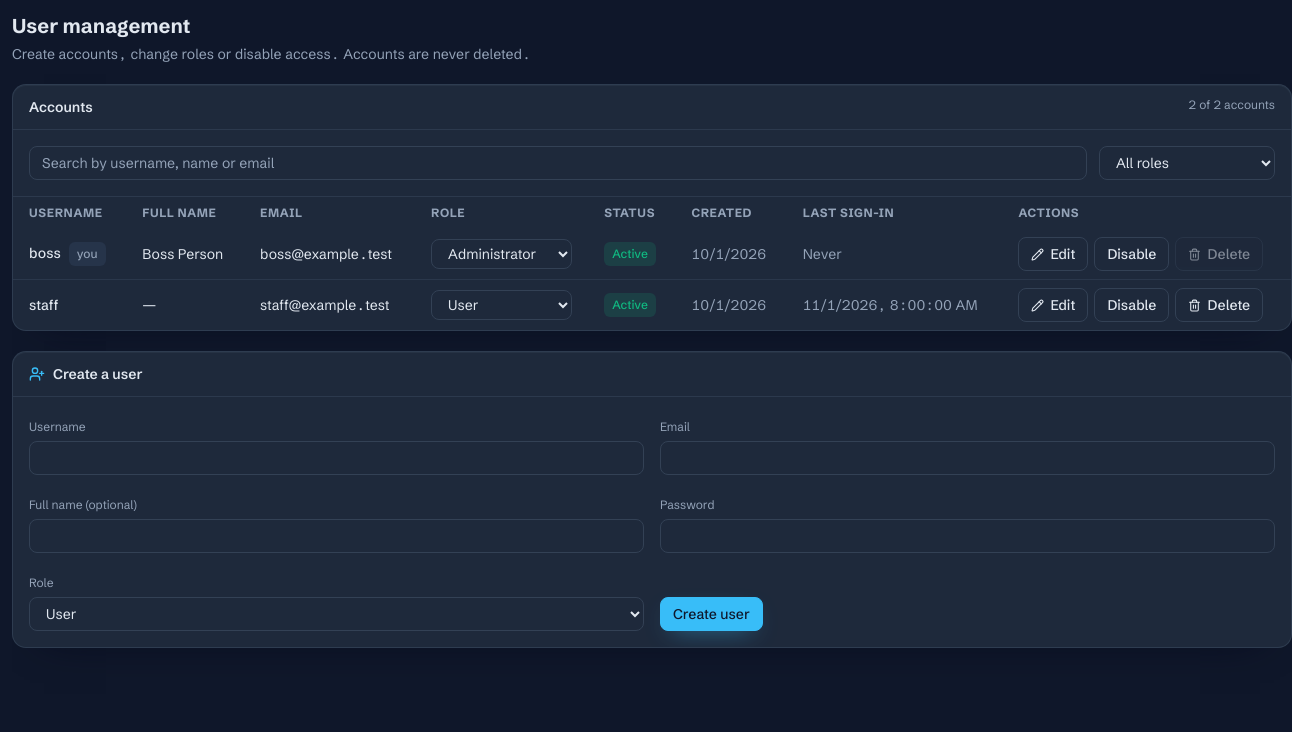
Users page (admin): role, status › the disable button sends dang_hoat_dong=false and the row flips to Disabled / Enable
What coordinates should you click on to do the following:
click the button "Disable" in the row of "staff@example.test"
I would click on:
 (1132, 305)
Its box is [1094,288,1170,322].
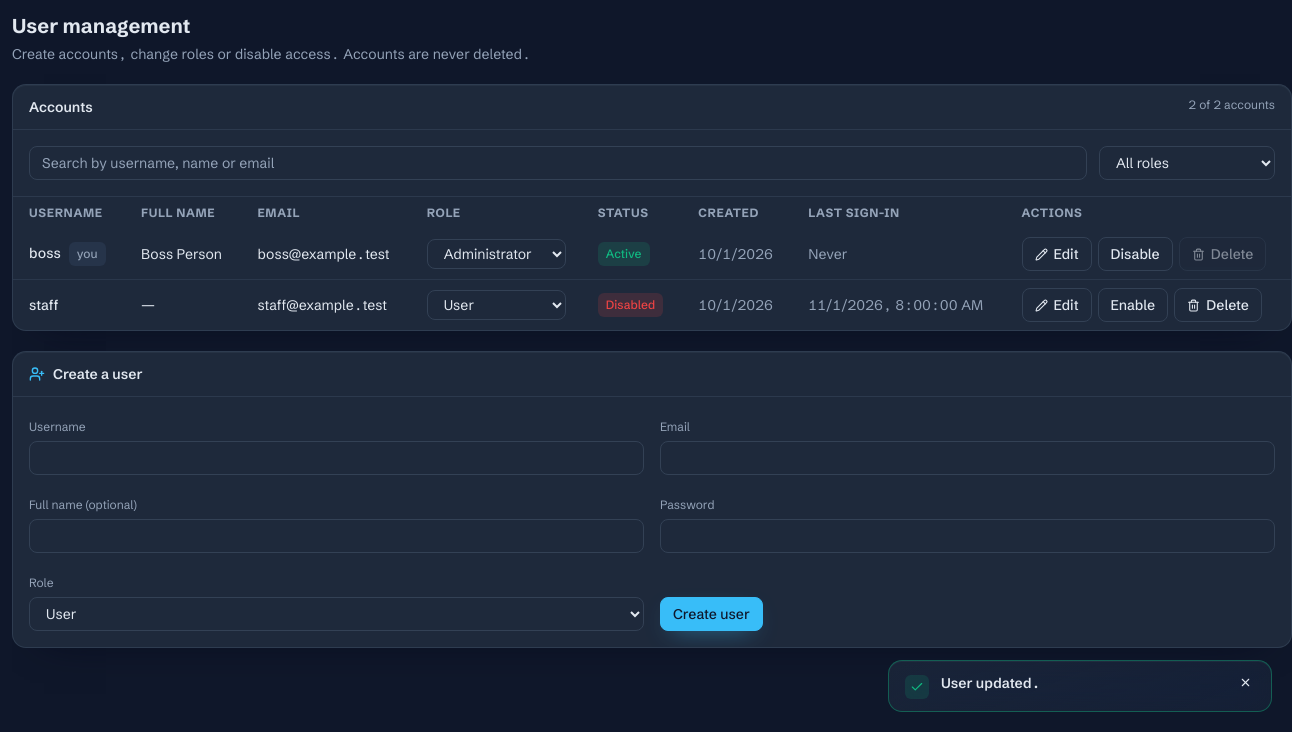
Now the text "Disabled" is shown, box [598,293,663,317]
Now the button "Enable" is shown, box [1098,288,1168,322]
